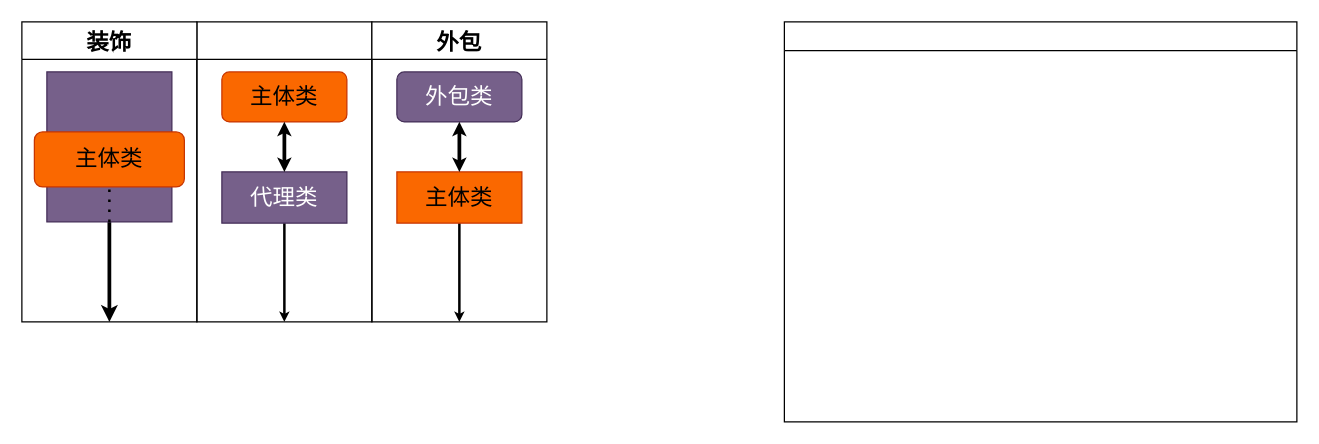
Some shapes in this 1319 by 444 pixel diagram are drawn without their labels. The shapes that lost their labels are listed below. From the top down, each one's box as (x1, y1, x2, y2) in pixels, then its label:
(46, 71, 172, 222): 装饰类
(196, 21, 372, 322): 代理
(783, 21, 1297, 422): Vertical Container
